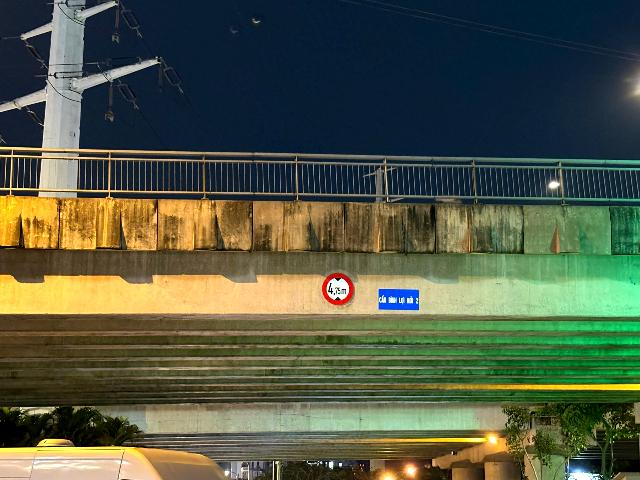han-che-chieu-cao: (321, 273, 354, 306)
